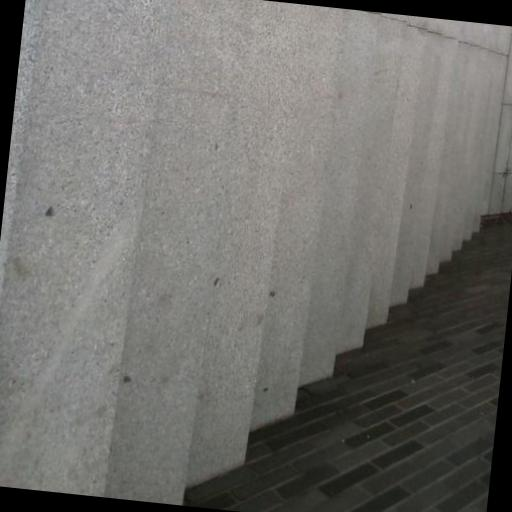stairs: (0, 0, 508, 504)
